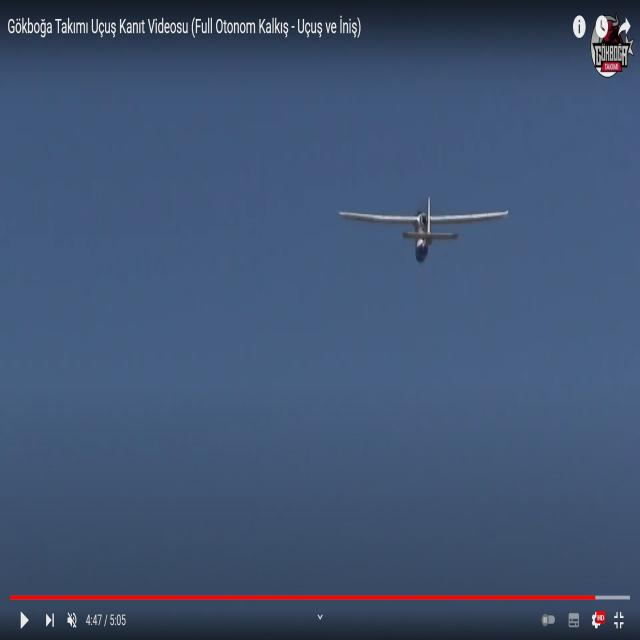iha: (340, 198, 508, 258)
